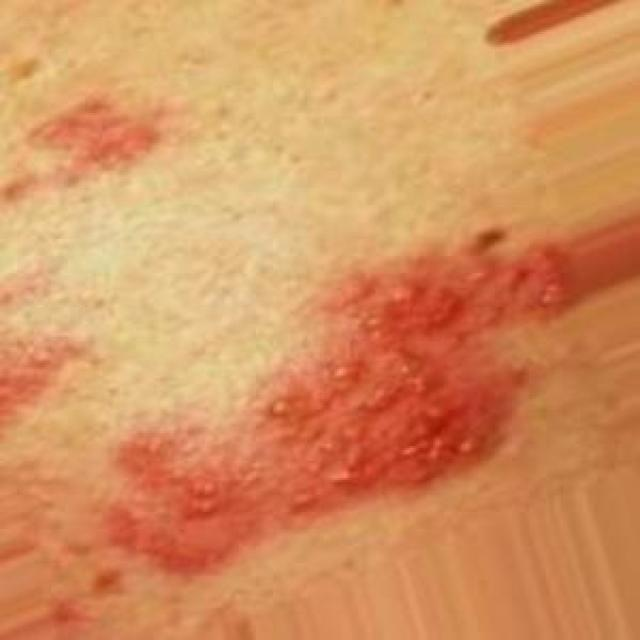Shingles: (100, 236, 580, 564), (23, 90, 164, 186)
